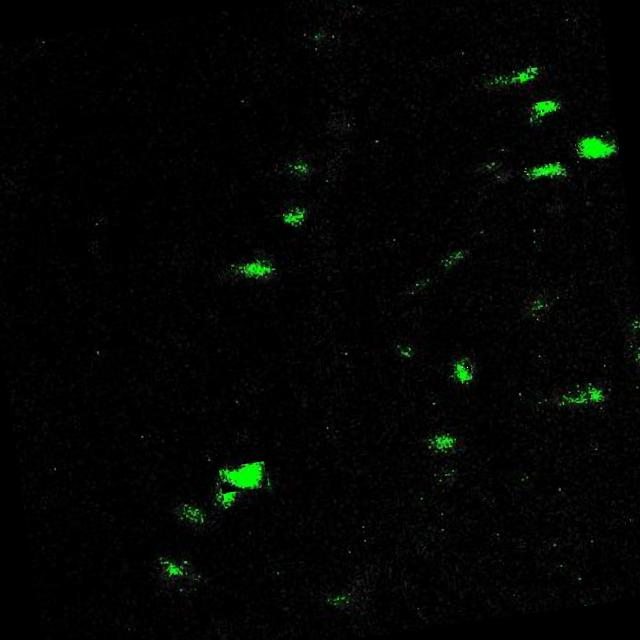Cell: (218, 461, 266, 494), (573, 133, 619, 162), (521, 160, 561, 179), (243, 260, 270, 278), (430, 431, 453, 452), (452, 358, 472, 381), (531, 100, 557, 112)
